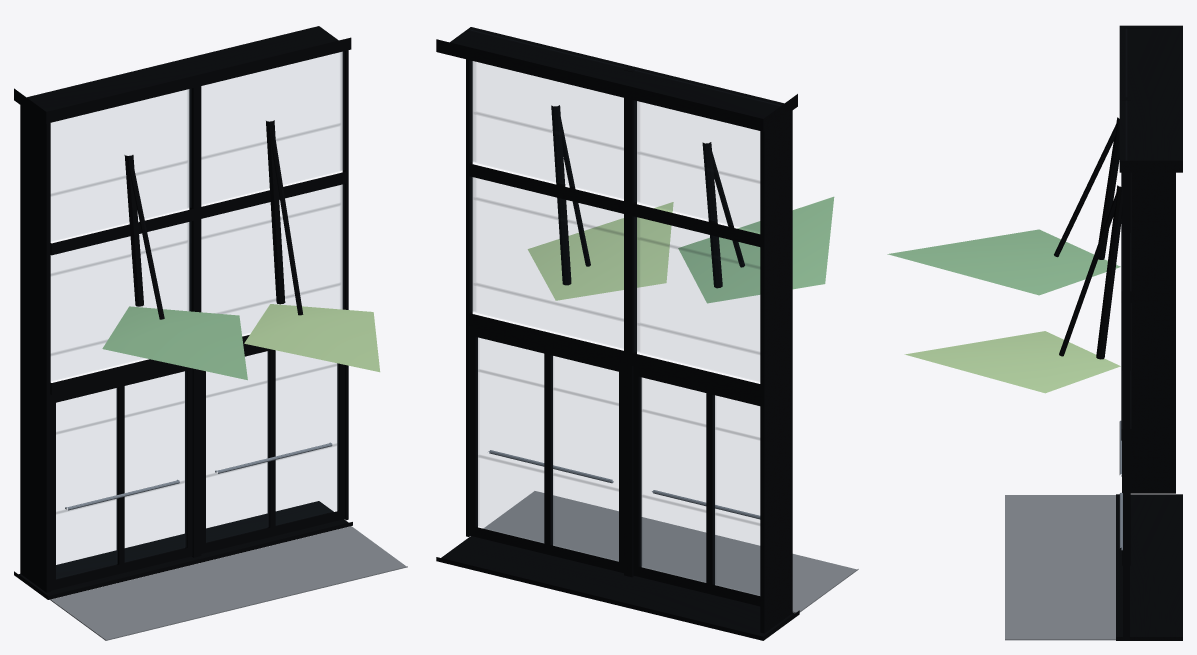
3 renders of one model, left to right at view 1: azimuth 30°, elevation 25°; view 2: azimuth 150°, elevation 25°; view 3: azimuth 270°, elevation 25°, orthographic. The views are drawn at different scales.
Parts seen in each view (by area): view 1: Frame, Threshold_Mat, Door_Stiles, Leaf_Canopy_0, Leaf_Canopy_1, Glass_Mid_1, Glass_Door_0, Glass_Door_1, Glass_Mid_0, Glass_Upper_1, Glass_Upper_0, Push_Bars; view 2: Frame, Door_Stiles, Threshold_Mat, Leaf_Canopy_1, Leaf_Canopy_0, Glass_Mid_1, Glass_Door_0, Glass_Door_1, Glass_Mid_0, Glass_Upper_1, Glass_Upper_0, Push_Bars; view 3: Frame, Threshold_Mat, Leaf_Canopy_0, Leaf_Canopy_1.
Boxes of the visible parts, <box> form: Frame: <box>14,26,352,599</box>; Threshold_Mat: <box>49,526,407,640</box>; Door_Stiles: <box>50,346,345,590</box>; Leaf_Canopy_0: <box>102,306,247,380</box>; Leaf_Canopy_1: <box>244,304,380,372</box>; Glass_Mid_1: <box>201,184,344,313</box>; Glass_Door_0: <box>56,371,186,563</box>; Glass_Door_1: <box>206,351,338,526</box>; Glass_Mid_0: <box>51,222,191,356</box>; Glass_Upper_1: <box>201,51,344,170</box>; Glass_Upper_0: <box>51,89,191,207</box>; Push_Bars: <box>65,442,332,510</box>; Frame: <box>436,27,799,640</box>; Door_Stiles: <box>469,326,760,606</box>; Threshold_Mat: <box>483,491,858,613</box>; Leaf_Canopy_1: <box>527,202,673,300</box>; Leaf_Canopy_0: <box>678,196,834,303</box>; Glass_Mid_1: <box>470,177,623,321</box>; Glass_Door_0: <box>640,377,759,583</box>; Glass_Door_1: <box>477,337,618,544</box>; Glass_Mid_0: <box>634,217,759,354</box>; Glass_Upper_1: <box>470,61,623,161</box>; Glass_Upper_0: <box>634,101,759,201</box>; Push_Bars: <box>488,450,760,519</box>; Frame: <box>1054,25,1182,640</box>; Threshold_Mat: <box>1005,495,1115,640</box>; Leaf_Canopy_0: <box>887,229,1120,295</box>; Leaf_Canopy_1: <box>904,331,1120,393</box>.
Size of the model in its own units: 4 by 6.1 by 3.41.
6 materials, 3 textured.
